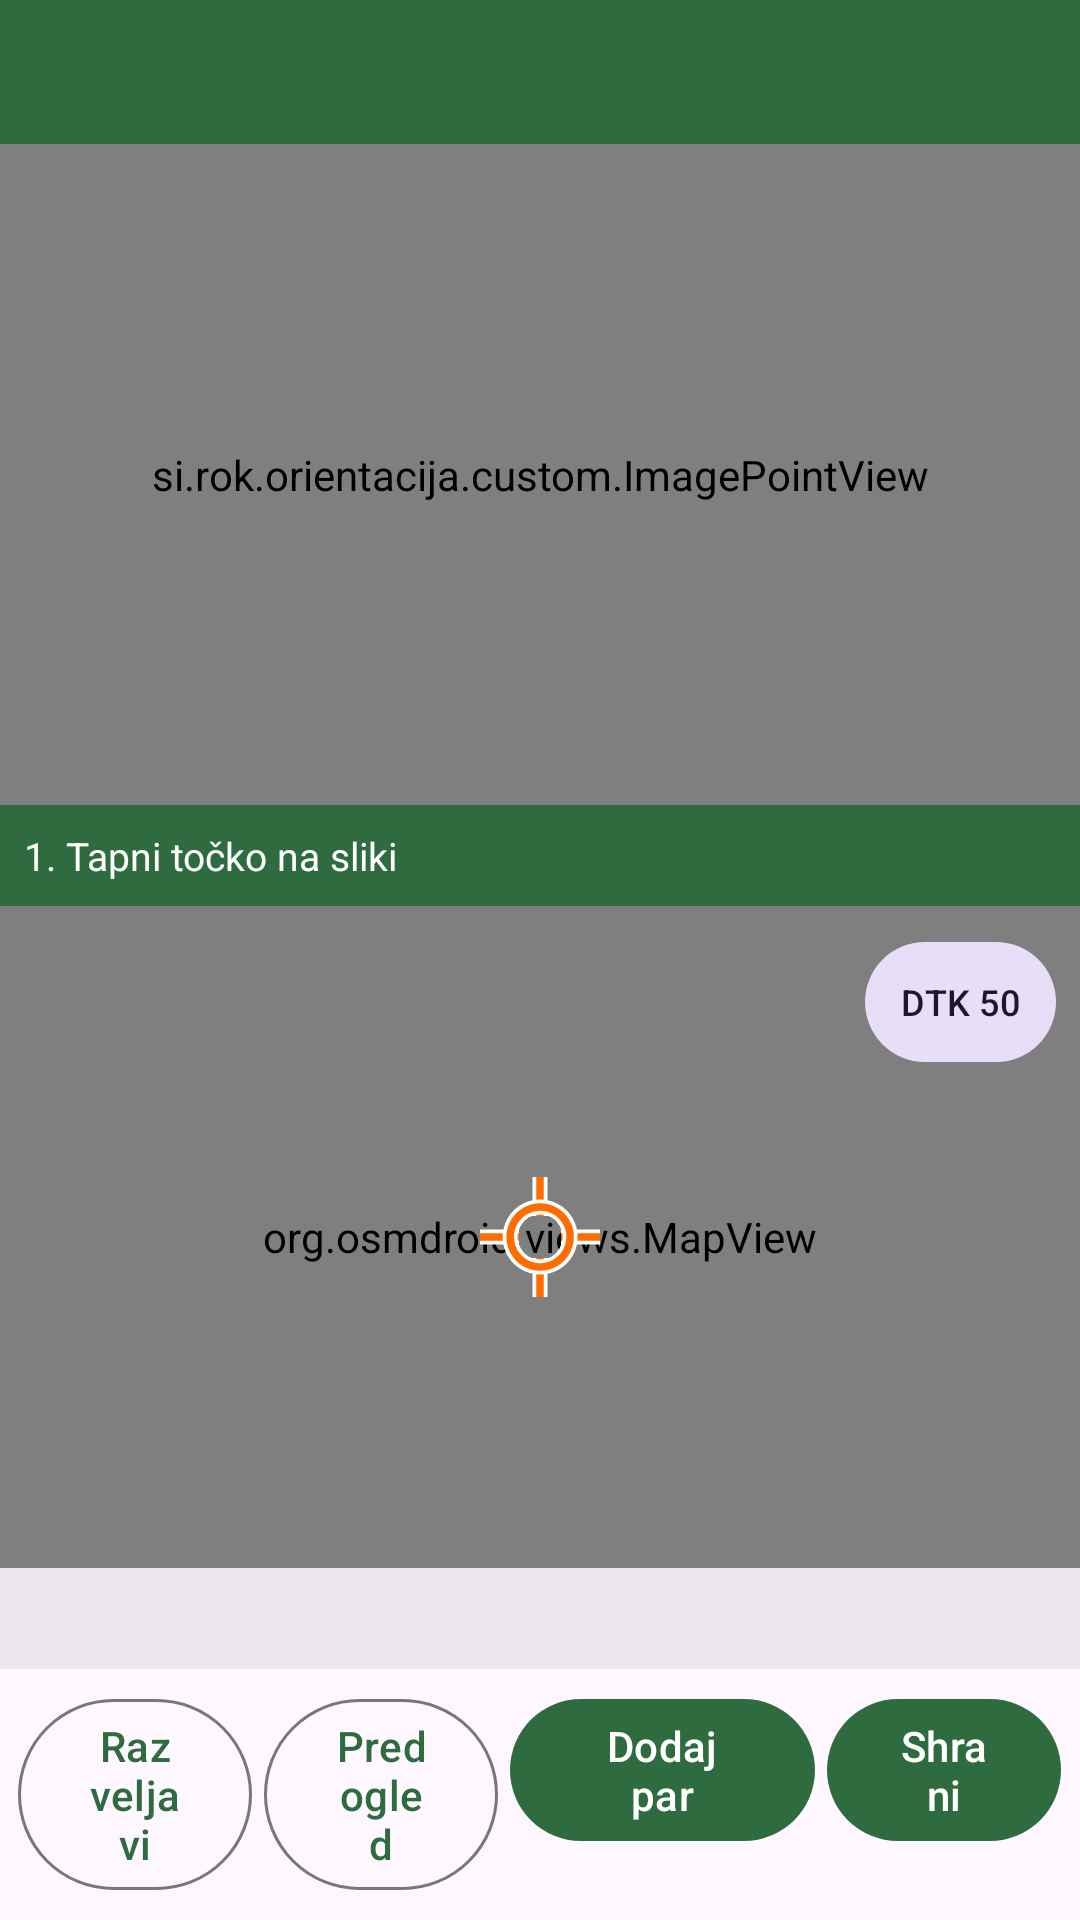

Where to tap for icons on this 1080w x 1920h app screen, as (x,y):
2. Tapni isto točko na karti: (544,1237)
